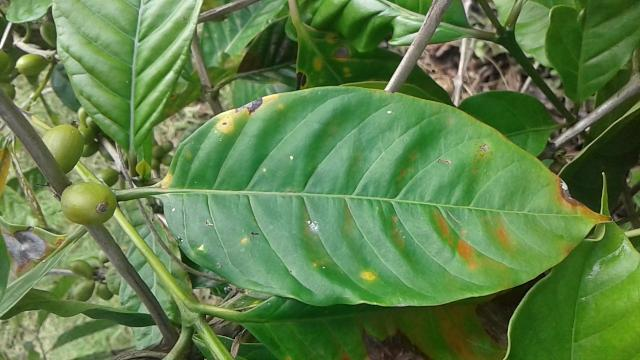rust_level_1: (164, 88, 612, 306)
